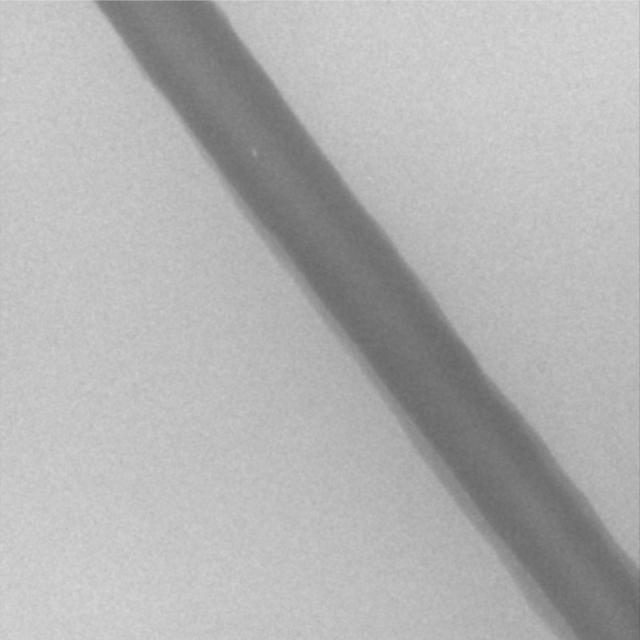air hole: (250, 146, 258, 158)
